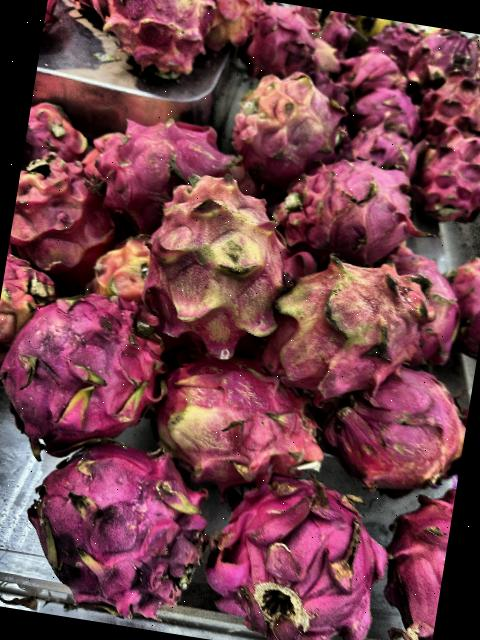buah-naga-belum-matang: (132, 164, 300, 358), (261, 240, 441, 407), (144, 346, 328, 488), (229, 65, 352, 186), (6, 155, 120, 281), (0, 253, 57, 344), (91, 236, 160, 311)
buah-naga-matang: (21, 433, 223, 624), (202, 469, 395, 640), (0, 280, 178, 463), (314, 361, 473, 492), (81, 102, 237, 232), (274, 158, 424, 266), (369, 486, 455, 640), (88, 0, 213, 80), (394, 248, 473, 362), (413, 119, 480, 228), (244, 9, 320, 84), (413, 64, 480, 144), (23, 96, 94, 166), (439, 253, 480, 348), (350, 80, 422, 134), (346, 122, 422, 172), (338, 47, 408, 92), (362, 16, 430, 62)
